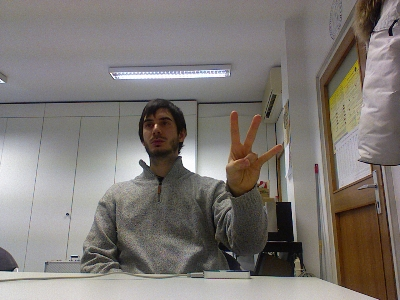观音: (224, 110, 282, 194)
